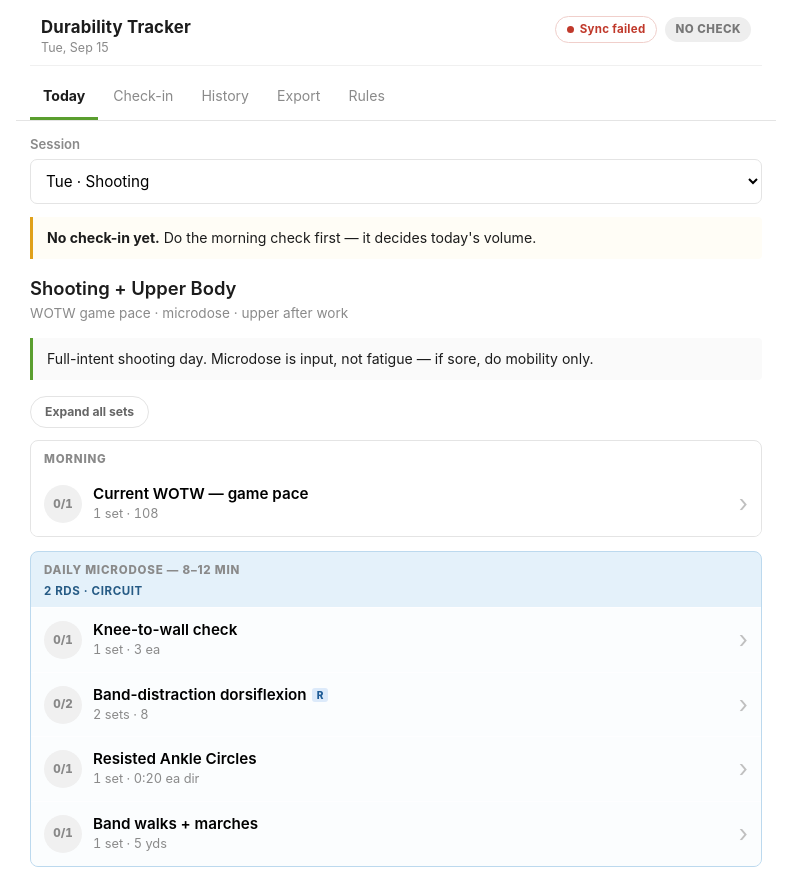
Test: check-in context › ignores an empty session and grades the last real one
The width and height of the screenshot is (793, 871).
Click the button "Check-in" at (143, 98), box [100,76,186,120]
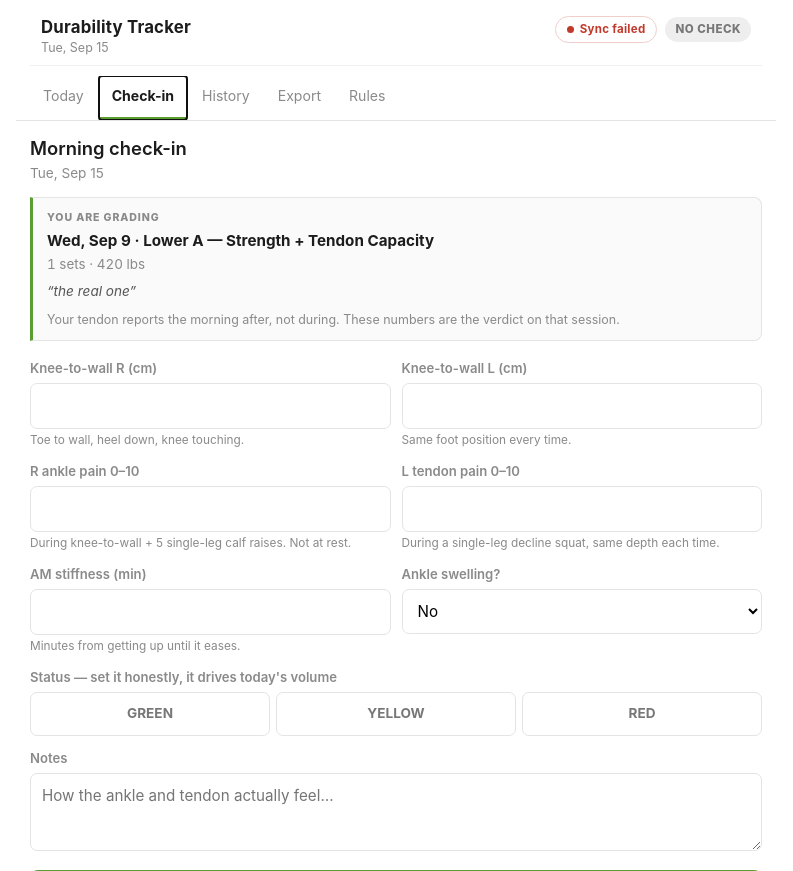
Expected: the element with class "grading" shows "the real one", [54,283,130,299]
